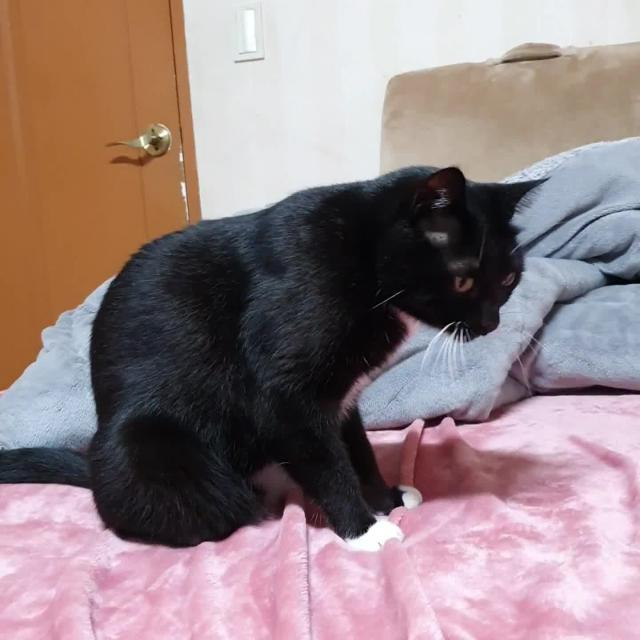cat: (0, 157, 556, 556)
